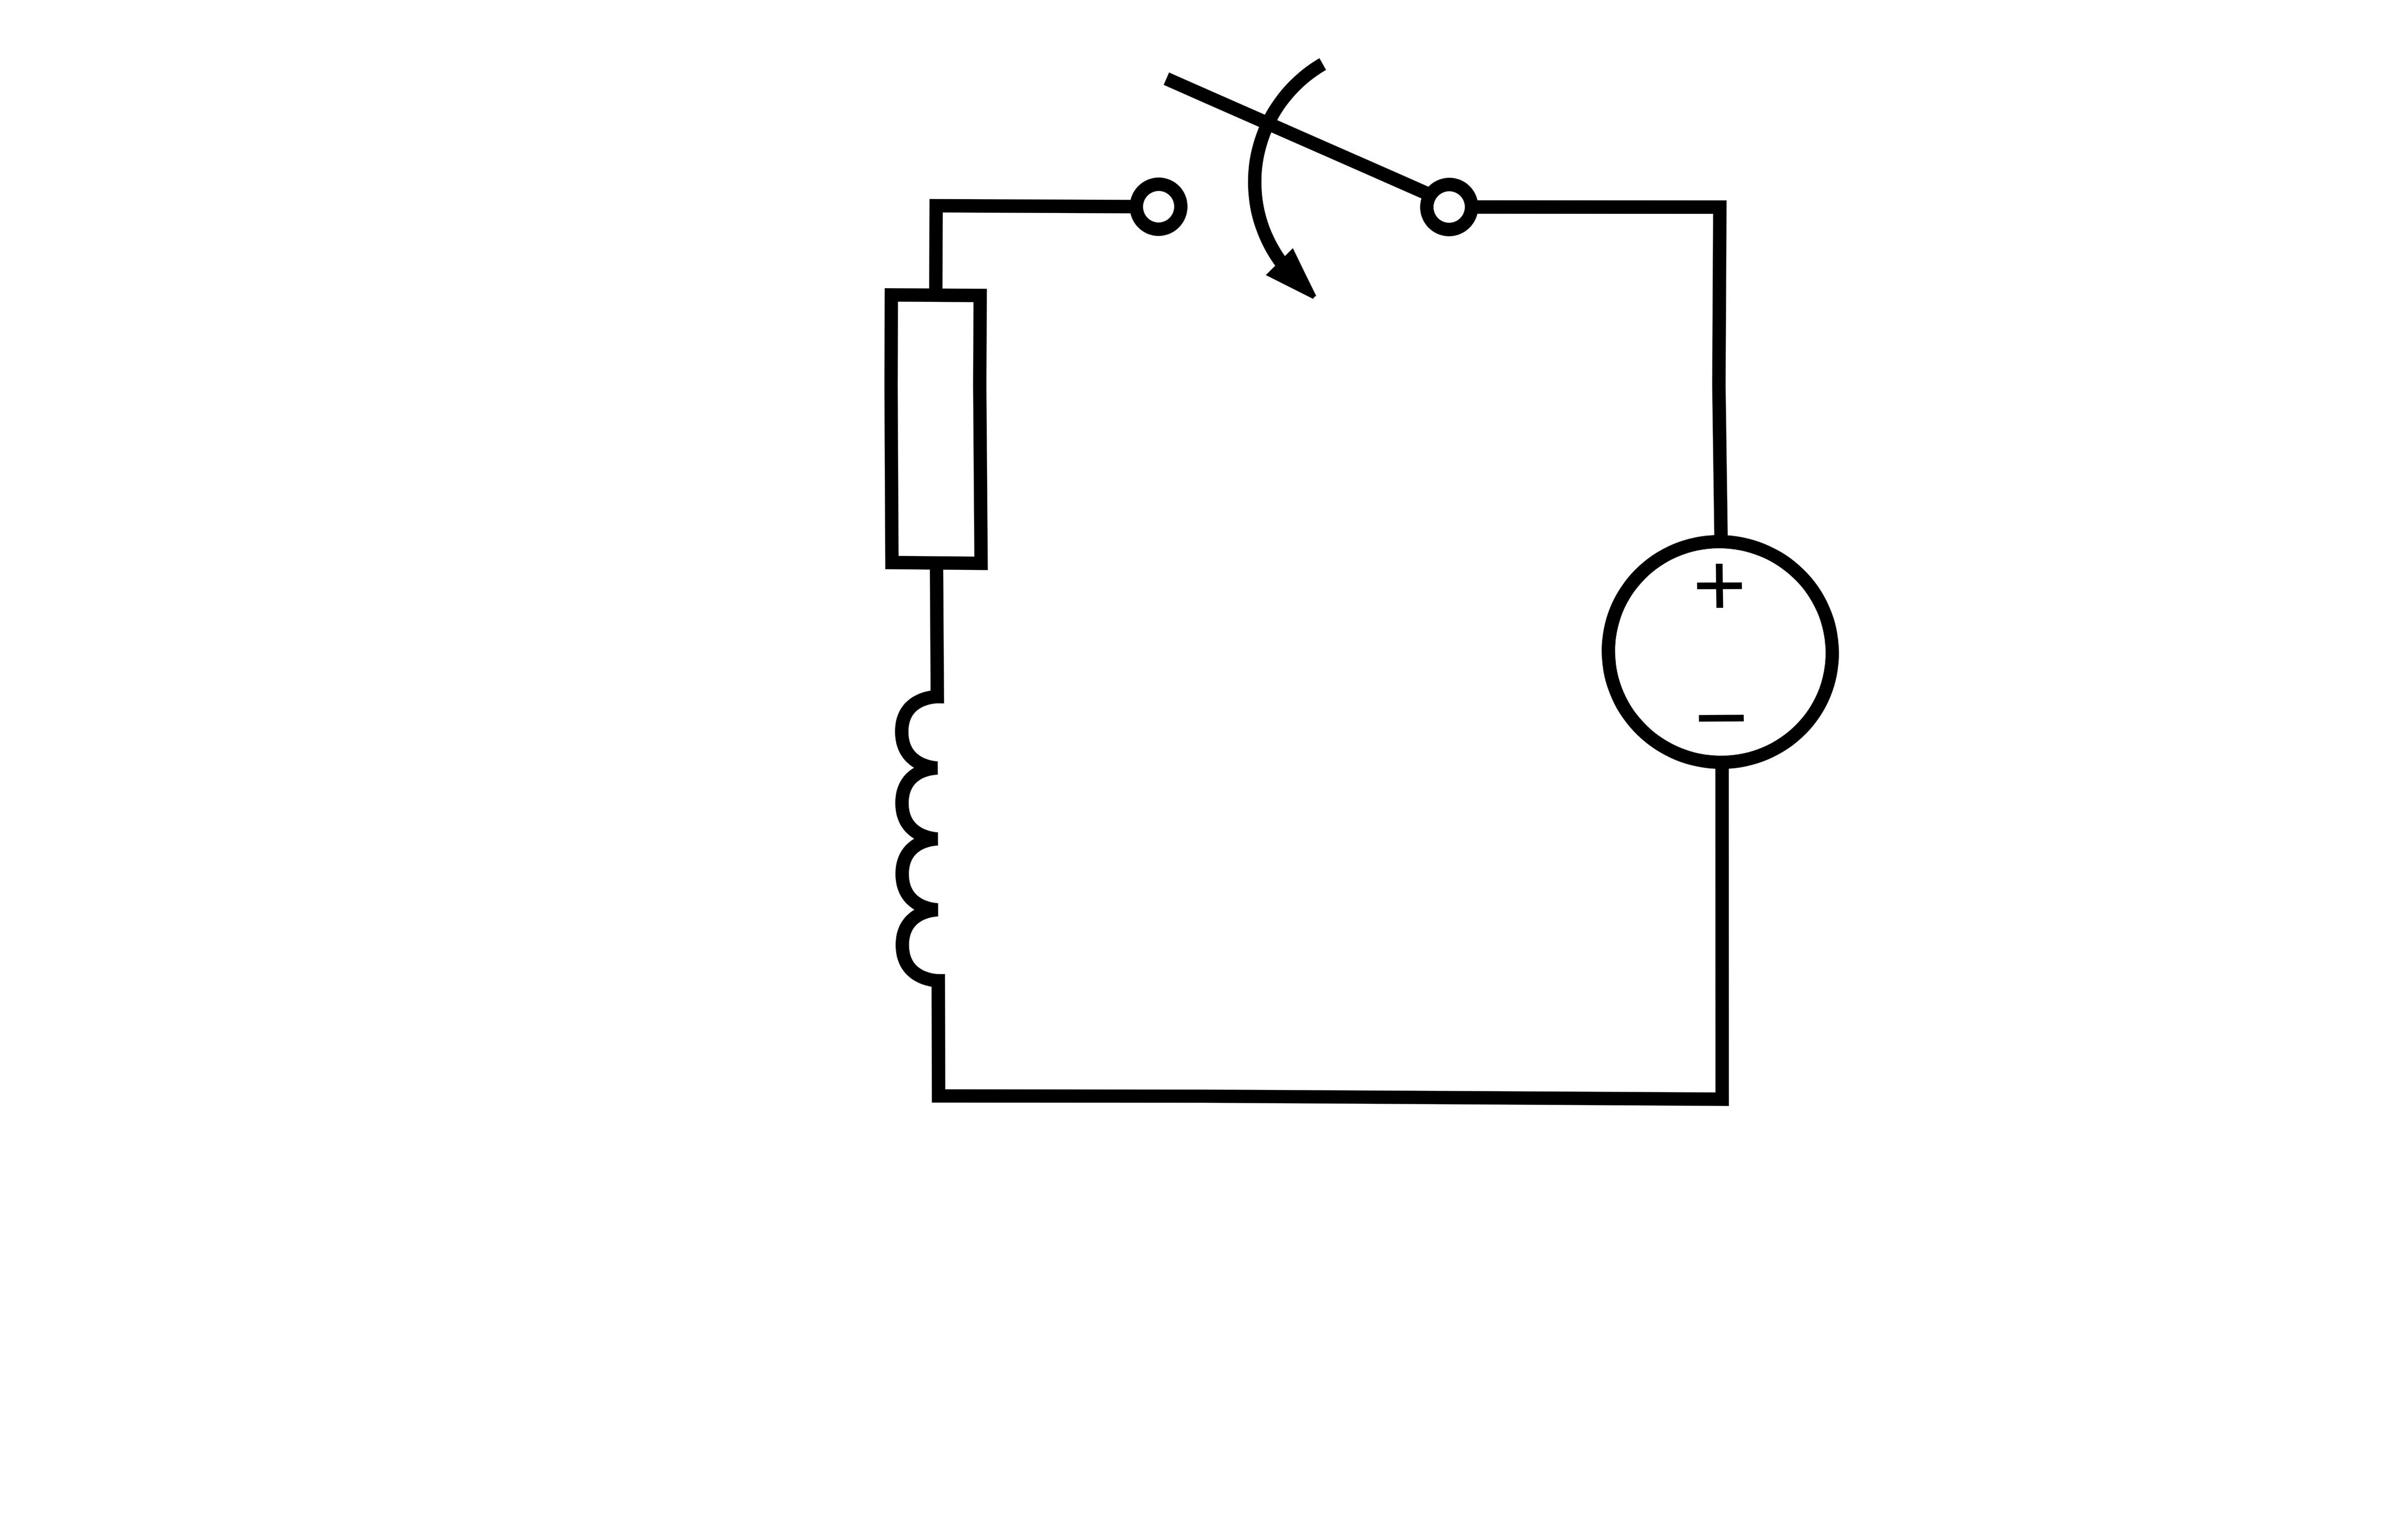Battery: (1508, 491, 1911, 816)
